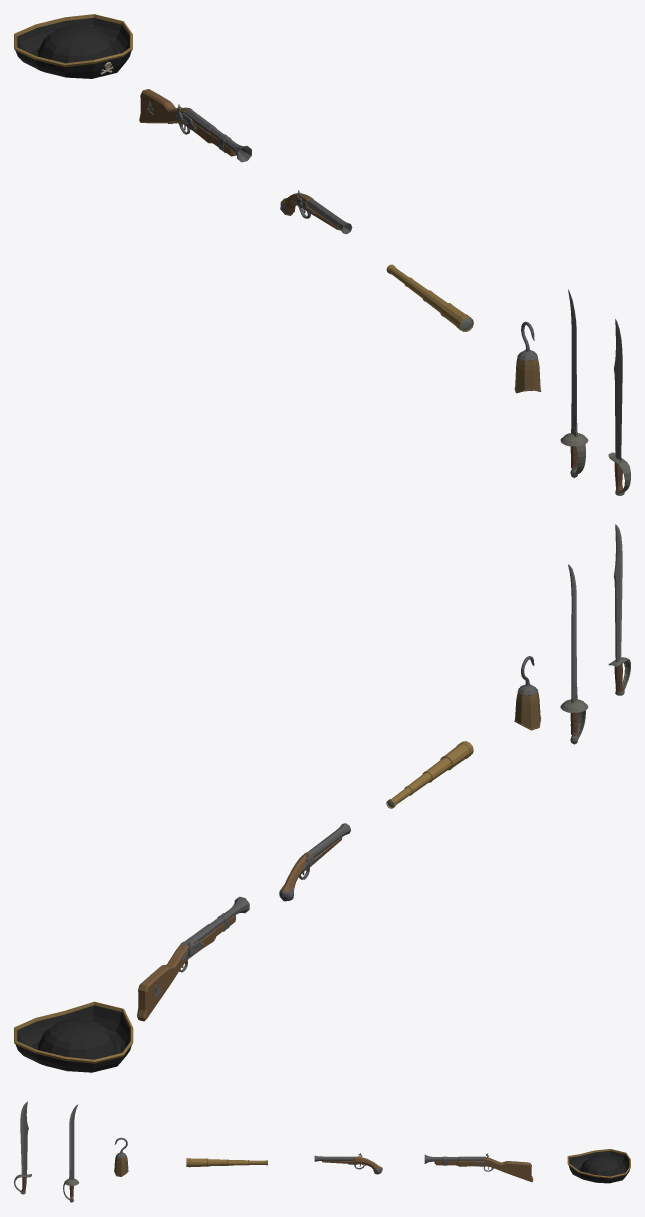
File: pirate-weapons-pack-1.fbx
3 renders of one model, top to bottom at view 1: azimuth 30°, elevation 25°; view 2: azimuth 150°, elevation 25°; view 3: azimuth 270°, elevation 25°, orthographic. The views are drawn at different scales.
Visible parts, largest first — view 1: Hat, Blunderbuss, Culass2, Culass1, Telescope, Flintlock, Hook; view 2: Hat, Blunderbuss, Culass2, Culass1, Flintlock, Telescope, Hook; view 3: Hat, Blunderbuss, Culass2, Culass1, Flintlock, Telescope, Hook.
Boxes of the visible parts, x1=… form: Hat: x1=14, y1=14, x2=132, y2=78; Blunderbuss: x1=139, y1=89, x2=251, y2=162; Culass2: x1=608, y1=319, x2=630, y2=495; Culass1: x1=560, y1=289, x2=588, y2=477; Telescope: x1=386, y1=264, x2=473, y2=331; Flintlock: x1=280, y1=190, x2=352, y2=234; Hook: x1=514, y1=321, x2=541, y2=393; Hat: x1=14, y1=1001, x2=133, y2=1072; Blunderbuss: x1=137, y1=896, x2=249, y2=1021; Culass2: x1=608, y1=524, x2=630, y2=695; Culass1: x1=560, y1=564, x2=588, y2=744; Flintlock: x1=279, y1=823, x2=350, y2=901; Telescope: x1=386, y1=741, x2=473, y2=808; Hook: x1=514, y1=656, x2=541, y2=730; Hat: x1=567, y1=1149, x2=630, y2=1183; Blunderbuss: x1=424, y1=1153, x2=533, y2=1182; Culass2: x1=14, y1=1101, x2=31, y2=1194; Culass1: x1=63, y1=1104, x2=79, y2=1202; Flintlock: x1=314, y1=1153, x2=382, y2=1174; Telescope: x1=186, y1=1158, x2=267, y2=1167; Hook: x1=114, y1=1137, x2=128, y2=1176.
Size of the model in its own units: 49.95 by 82.34 by 454.
